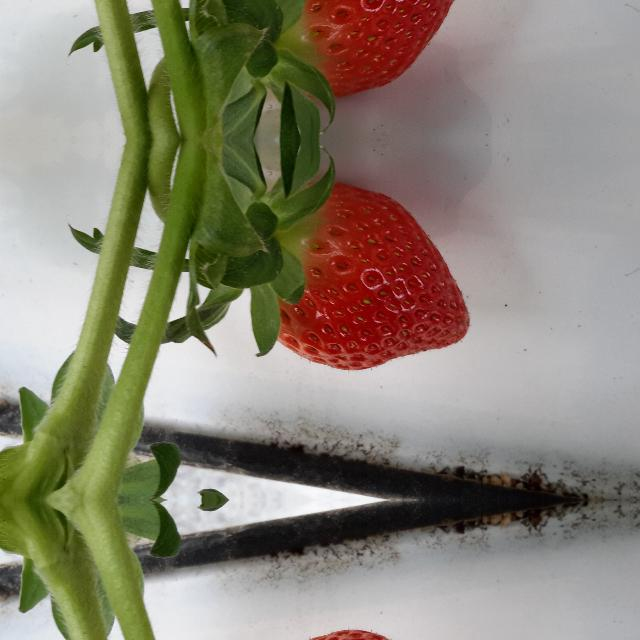Health_100: (276, 179, 470, 369), (276, 0, 470, 101)
